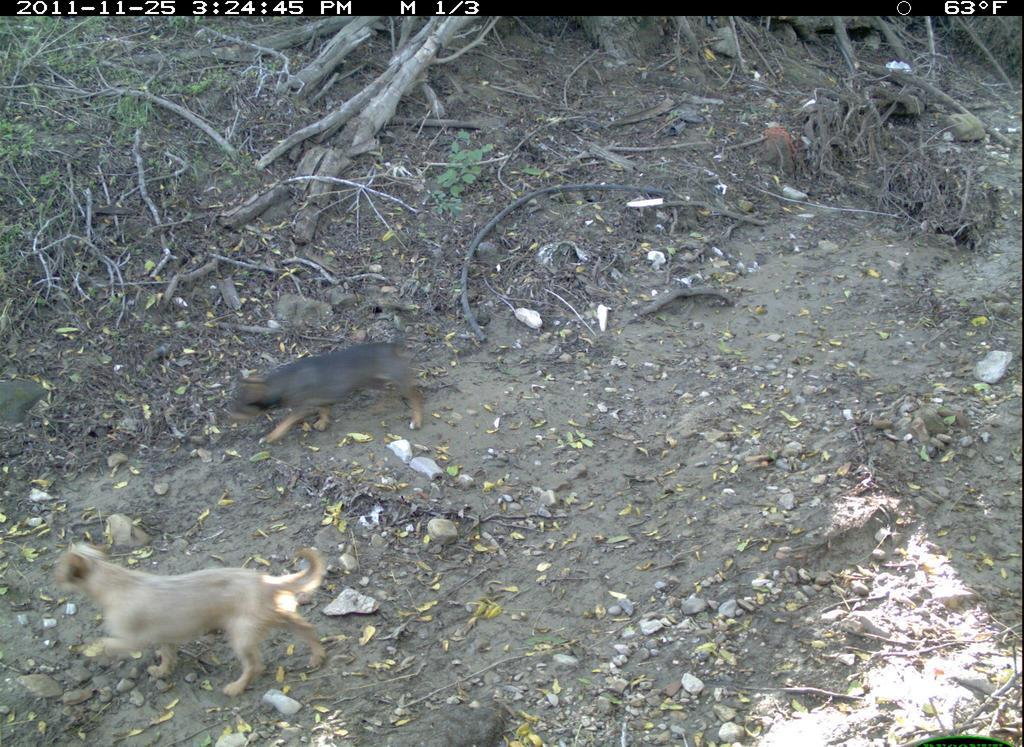dog: (47, 538, 331, 700), (221, 326, 430, 454)
